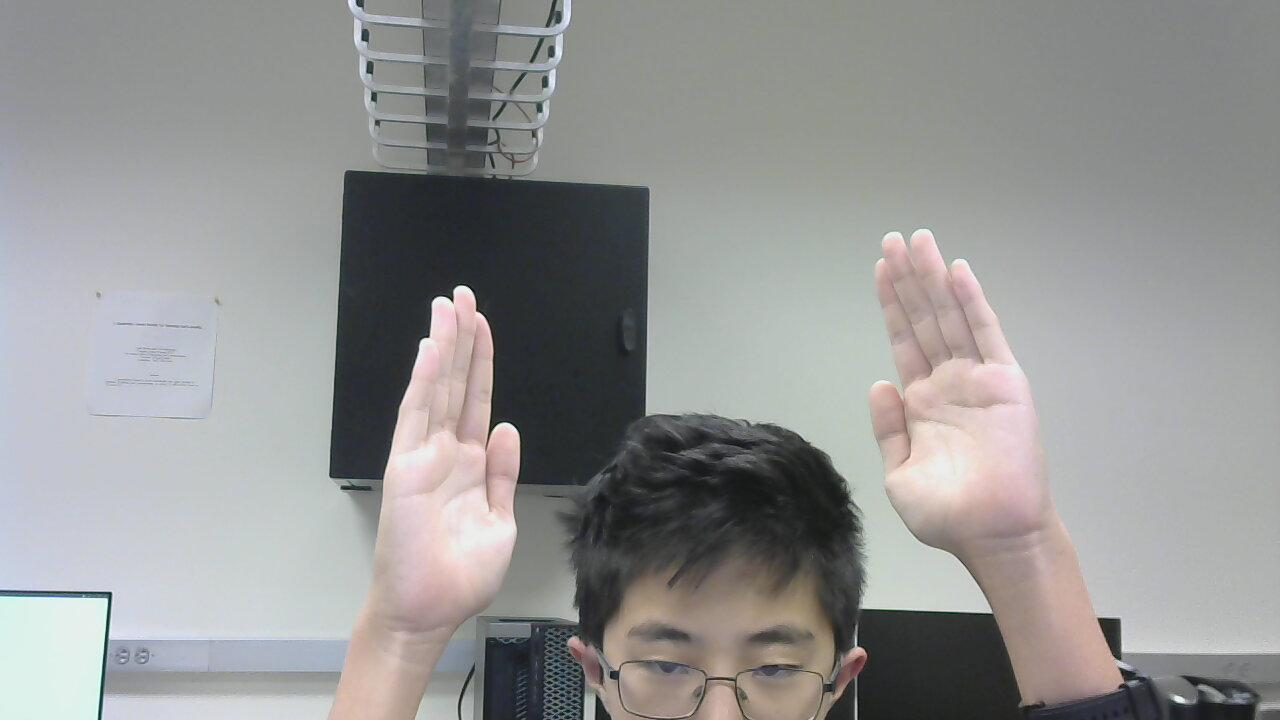hands: (863, 230, 1091, 577), (374, 276, 537, 631)
